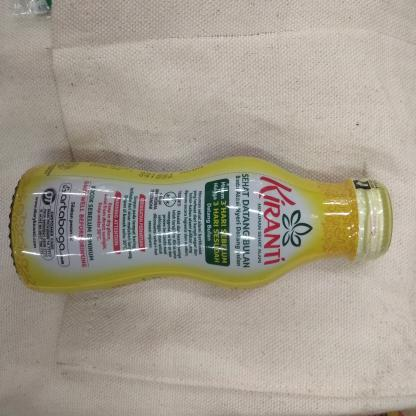glass: (4, 149, 395, 295)
